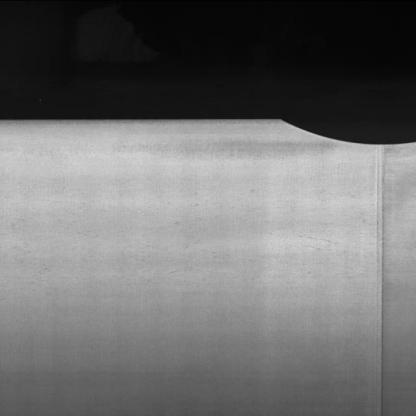crescent_gap: (273, 108, 416, 150)
welding_line: (369, 138, 401, 416)
